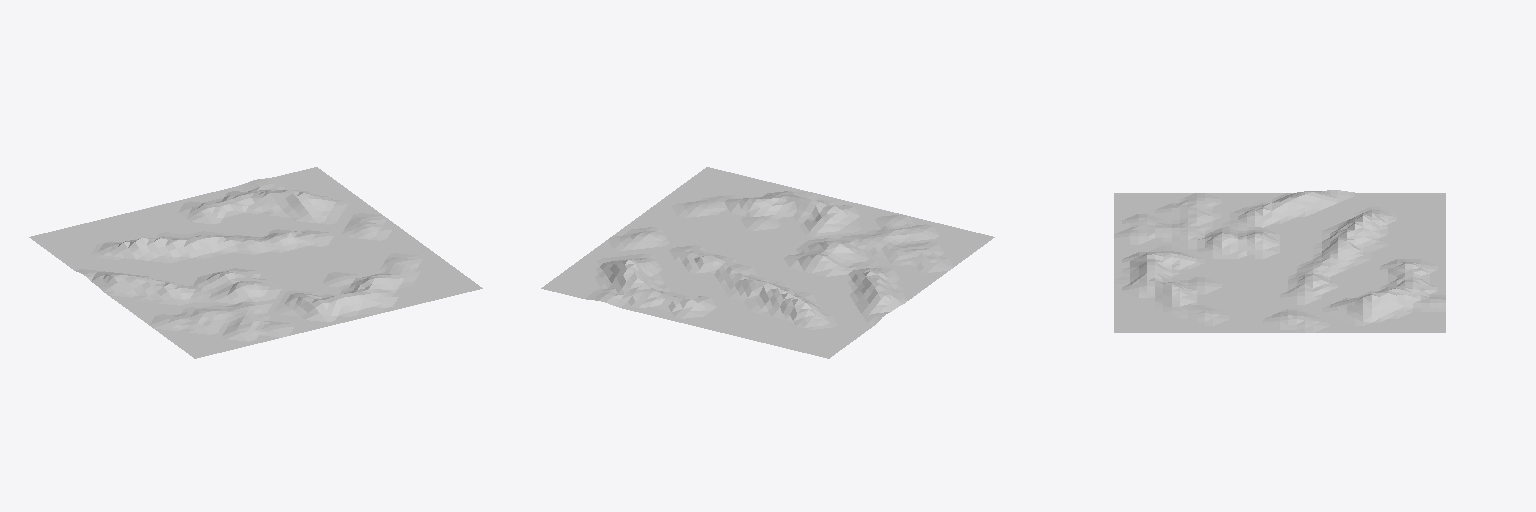
The model's file is MyTerrain.obj.
The picture shows the model from 3 angles: view 1: azimuth 30°, elevation 25°; view 2: azimuth 150°, elevation 25°; view 3: azimuth 270°, elevation 25°; orthographic projection.
Parts seen in each view (by area): view 1: Cube_Cube.001; view 2: Cube_Cube.001; view 3: Cube_Cube.001.
Boxes of the visible parts, box(x1,y1,x2,y2) form: Cube_Cube.001: box(29, 167, 482, 358); Cube_Cube.001: box(541, 167, 994, 358); Cube_Cube.001: box(1114, 190, 1445, 332).
Bounding box in the file's own units: 40 × 1.82 × 40.